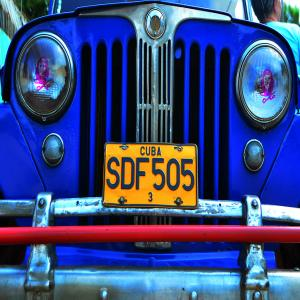Vehicle-registration-plate: (97, 138, 206, 210)
